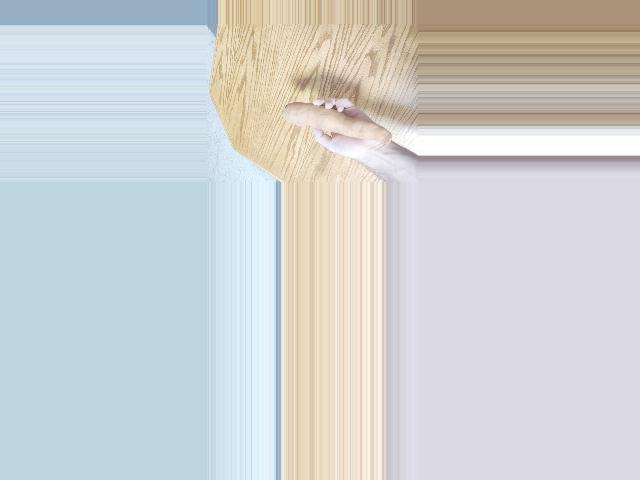sweet_potato: (279, 100, 387, 140)
